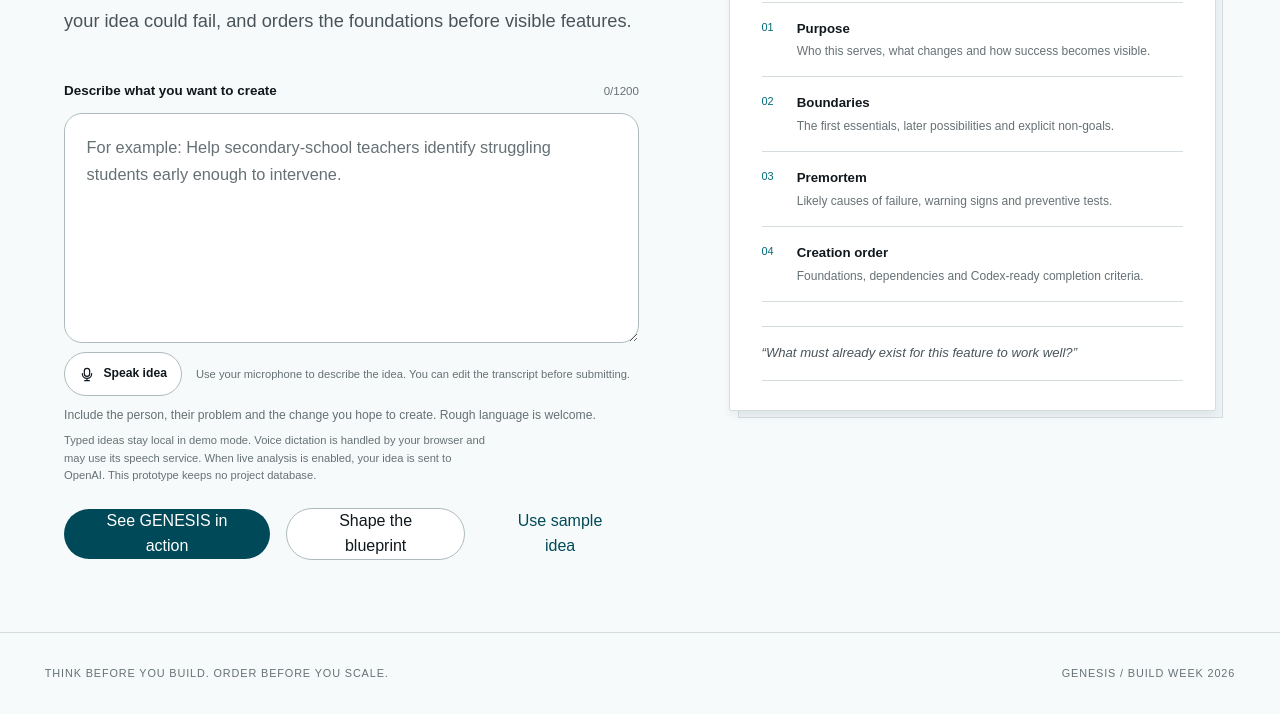
GenesisFlow › shows an inline validation error for an underspecified idea
(page scrolled)
Click the button "Shape the blueprint" at (376, 534), box [286,508,465,560]
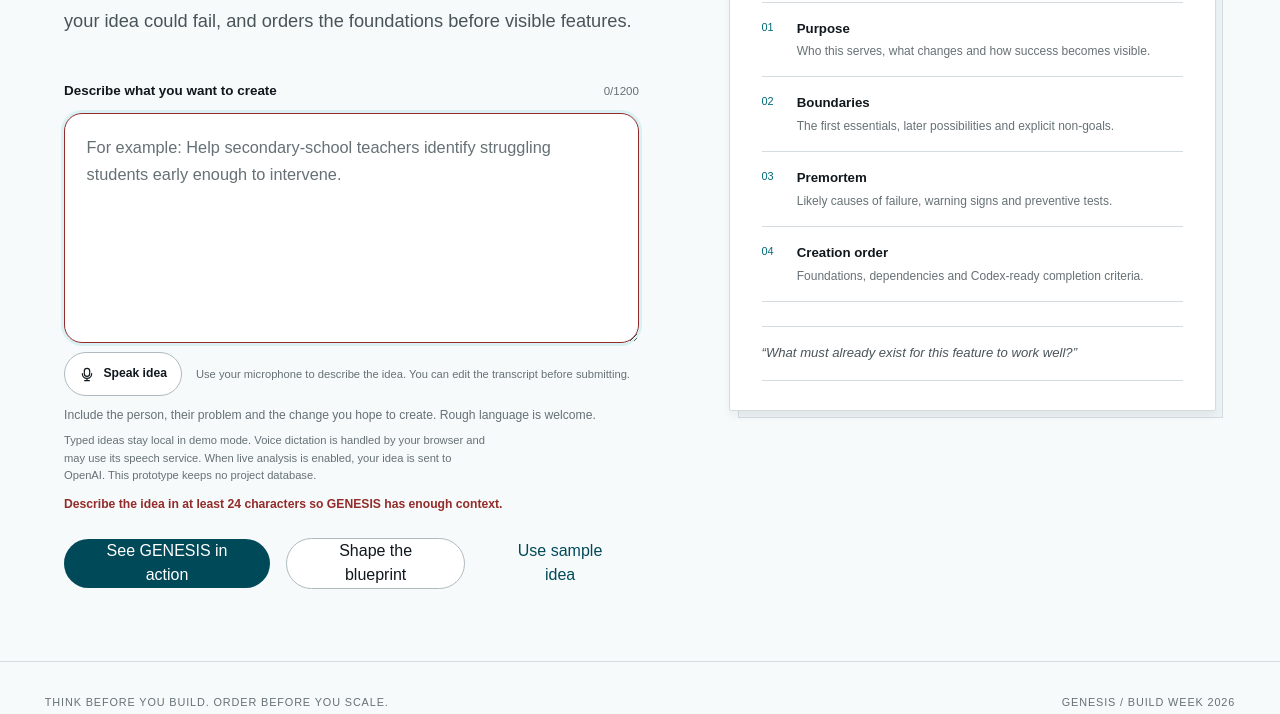
Expected: the message "Describe the idea in at least 24 characters so GENESIS has enough context." is shown, [64,497,502,511]
